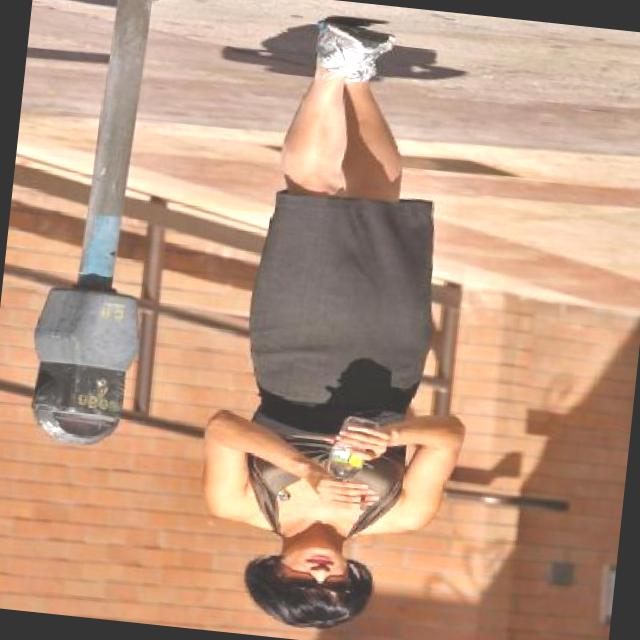cigarette: (354, 497, 370, 514)
